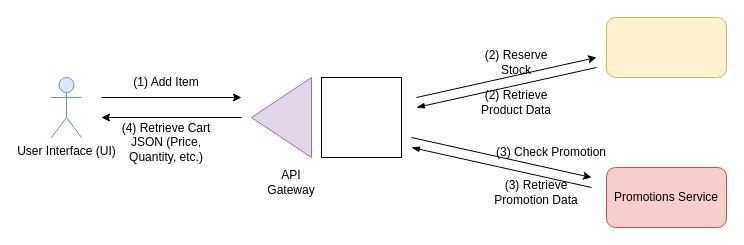
Image size: 744x245. Some labels were removed from this diagram. Here are the shapes that lost their labels. From the top down, the box of each, then its label:
(606, 16, 726, 78): Inventory Service
(320, 76, 402, 158): Cart (in-memory / cached)
